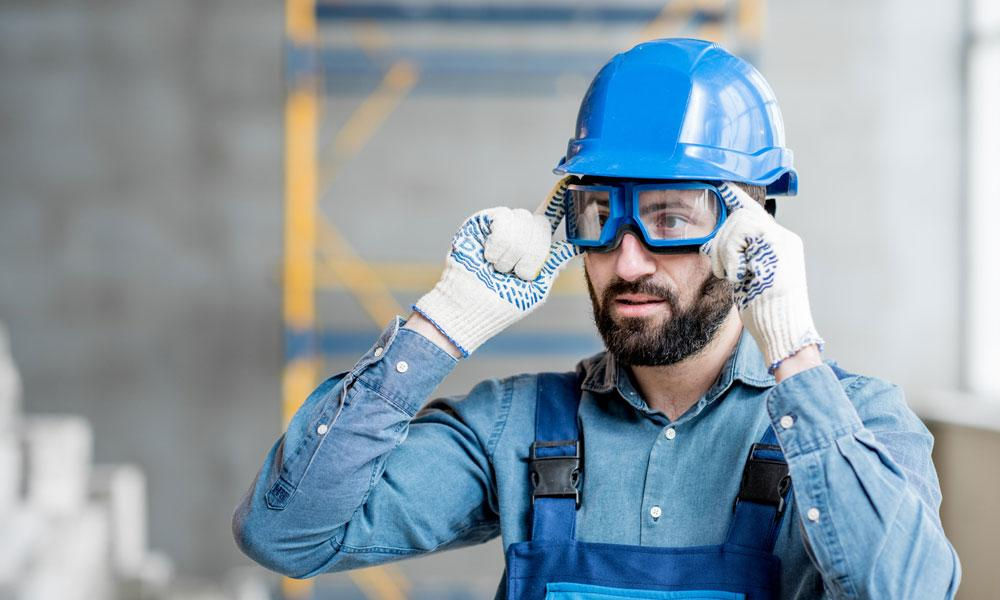helmet: (554, 39, 793, 197)
